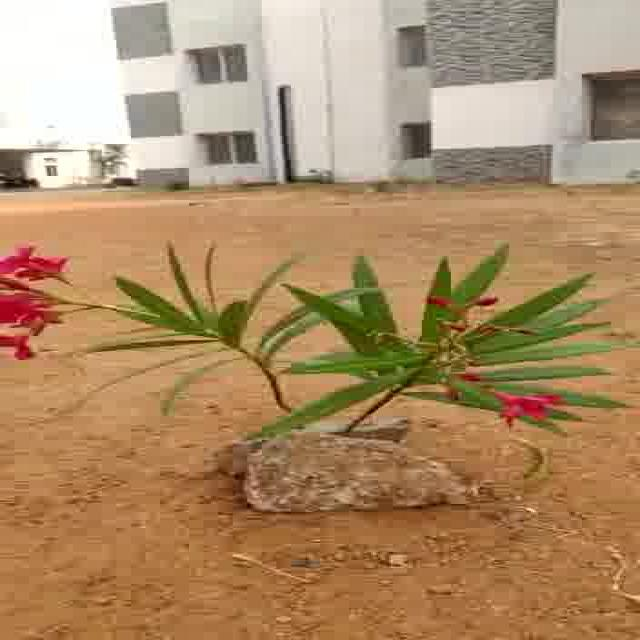Oleander: (16, 238, 640, 438)
